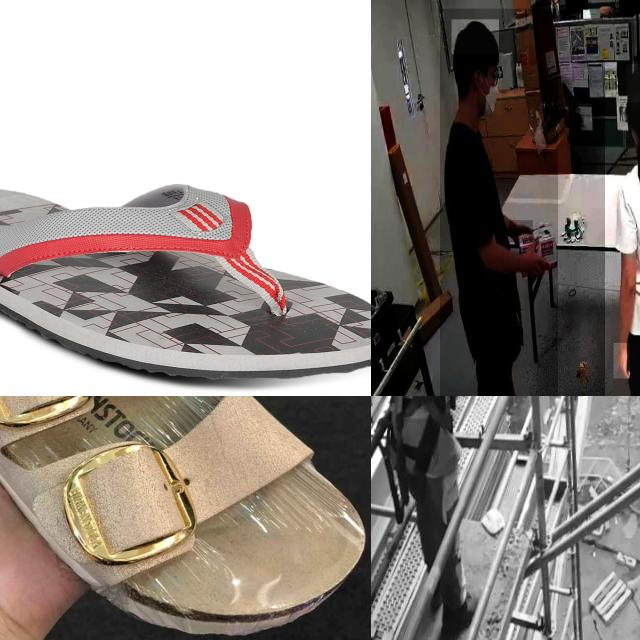Sandals: (0, 396, 371, 640), (0, 182, 371, 381)
face_mask: (474, 74, 502, 114)
hand_noglove: (520, 234, 548, 279), (614, 343, 630, 379), (509, 220, 533, 243)
head_nohelmet: (452, 19, 499, 55), (626, 64, 640, 103)
person: (439, 8, 558, 396), (605, 61, 640, 396)
